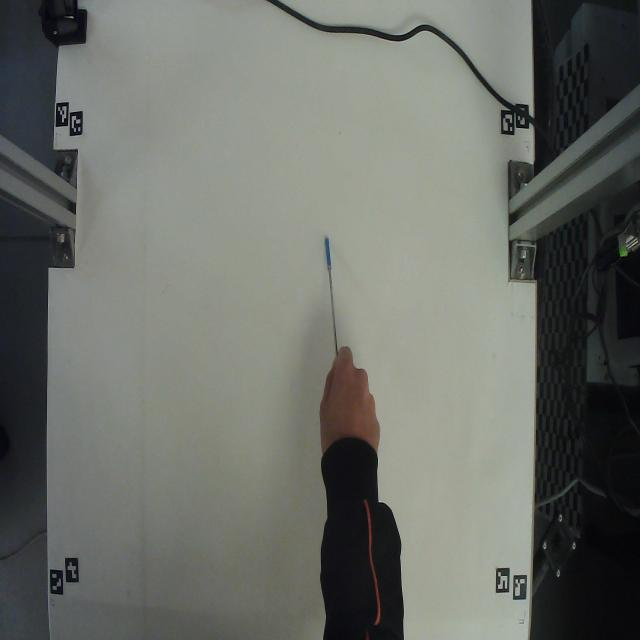Pres: (321, 206, 345, 373)
